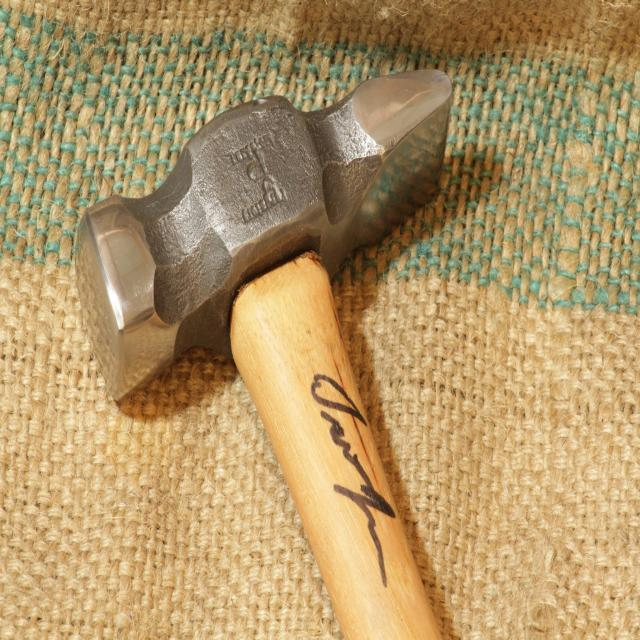hammer: (71, 65, 457, 640)
